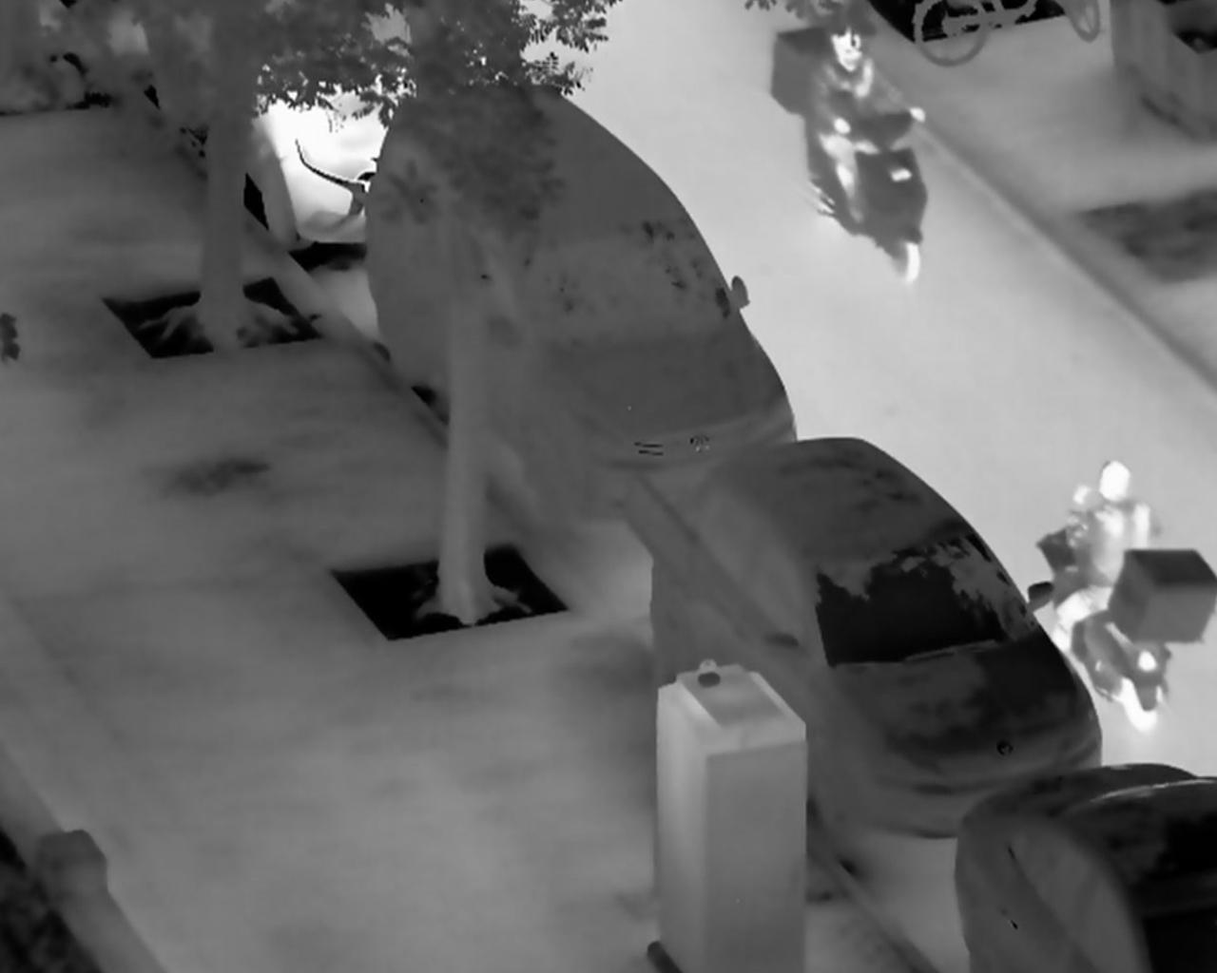person: (808, 28, 927, 232), (1051, 457, 1164, 661)
